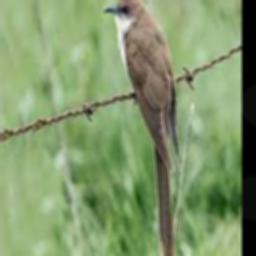Cuckoo: (103, 0, 180, 256)
